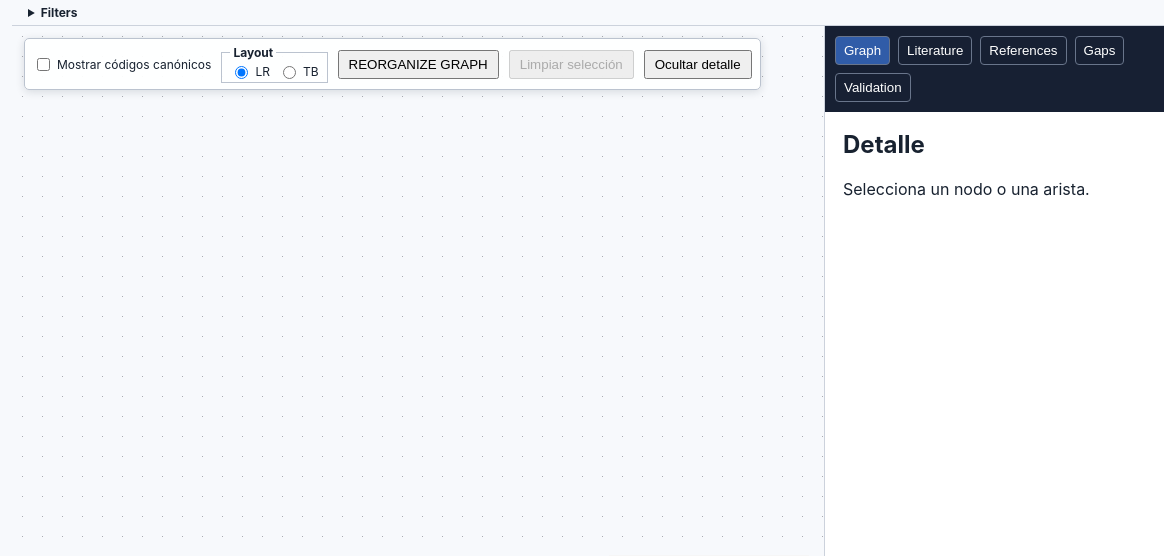
it: GraphRenderer canonical simulator integration › reports validation status PASS literally without recalculation
Click the button "Validation" at [873, 88], box [835, 73, 911, 102]
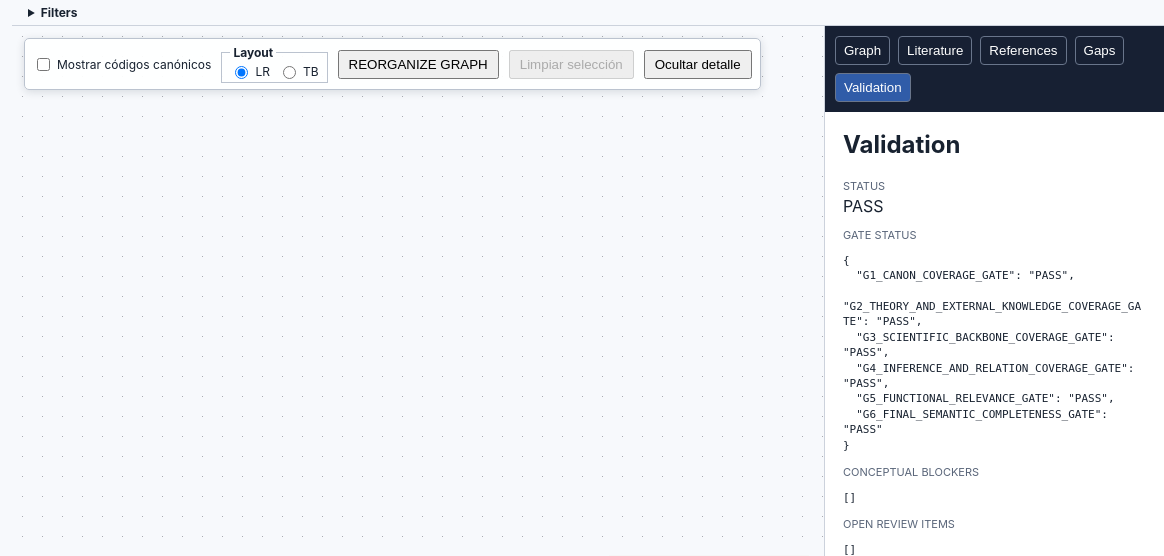
Now the text "PASS" is shown, box [843, 196, 884, 216]
Now the text "\"G1_CANON_COVERAGE_GATE\": \"PASS\"" is shown, box [843, 254, 1141, 452]
